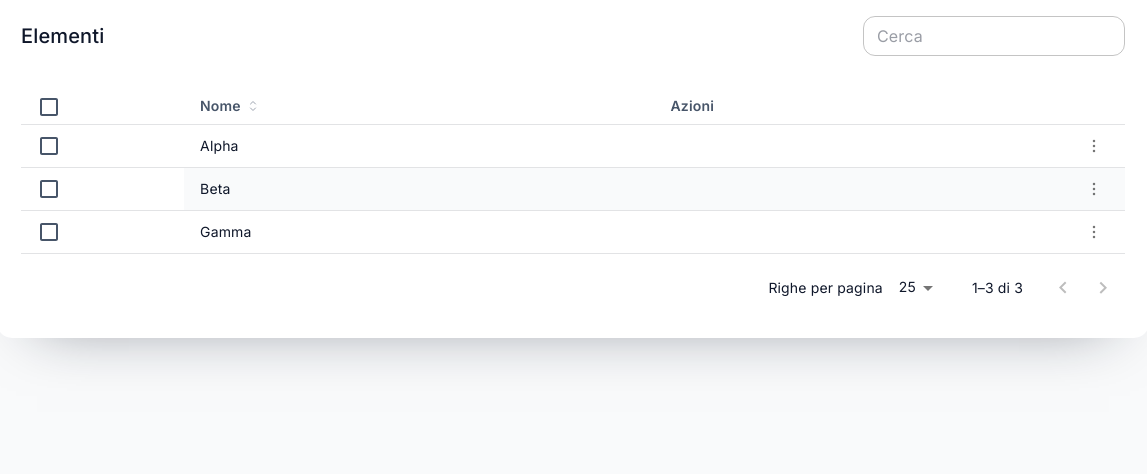
Test case: ListPage bulk selection › shows the bulk toolbar with count when rows selected, hidden at zero
The width and height of the screenshot is (1147, 474).
Expected: the text "Alpha" is shown, x1=184 y1=124 x2=655 y2=168
Expected: the text "selezionati" is not shown
Click the checkbox named "Seleziona riga" at (49, 146), box x1=37 y1=134 x2=61 y2=158
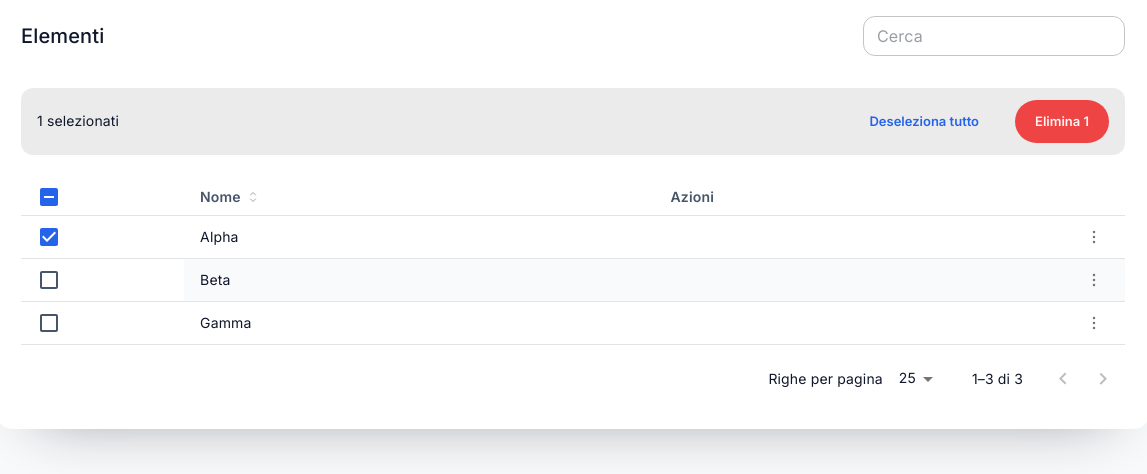
Click the checkbox named "Seleziona riga" at (49, 280), box x1=37 y1=268 x2=61 y2=292
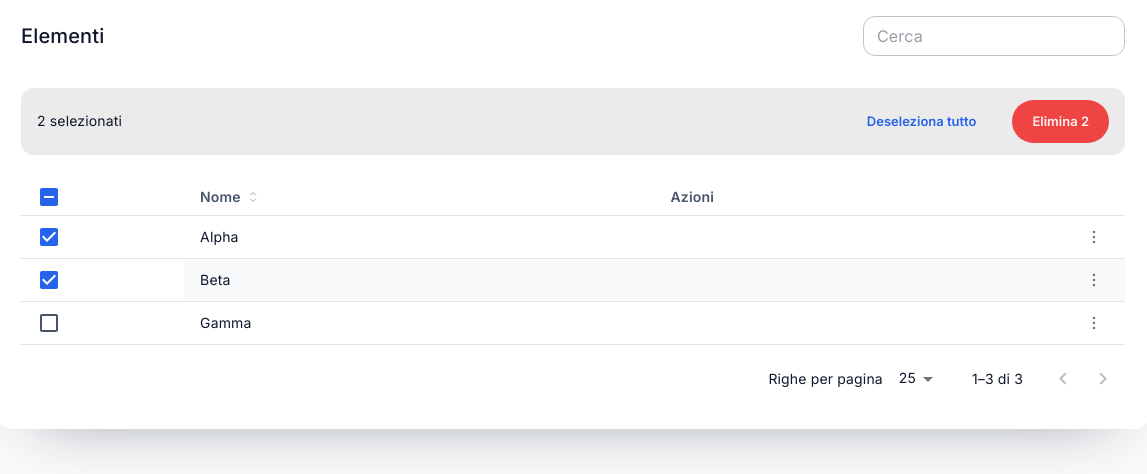
Expected: the text "2 selezionati" is shown, x1=37 y1=110 x2=122 y2=133
Deselect all clears it
Click the button "Deseleziona tutto" at (922, 121), box x1=847 y1=100 x2=996 y2=143
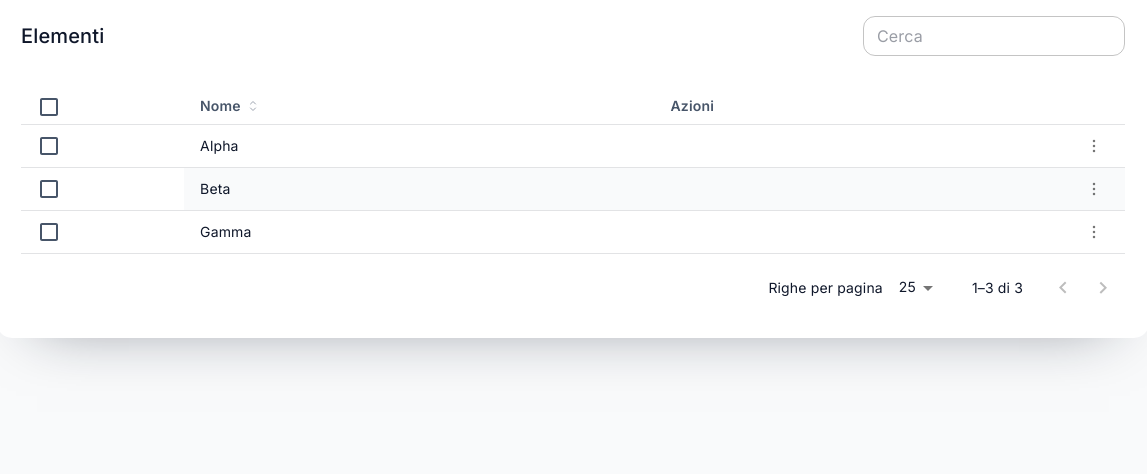
Expected: the text "selezionati" is gone
